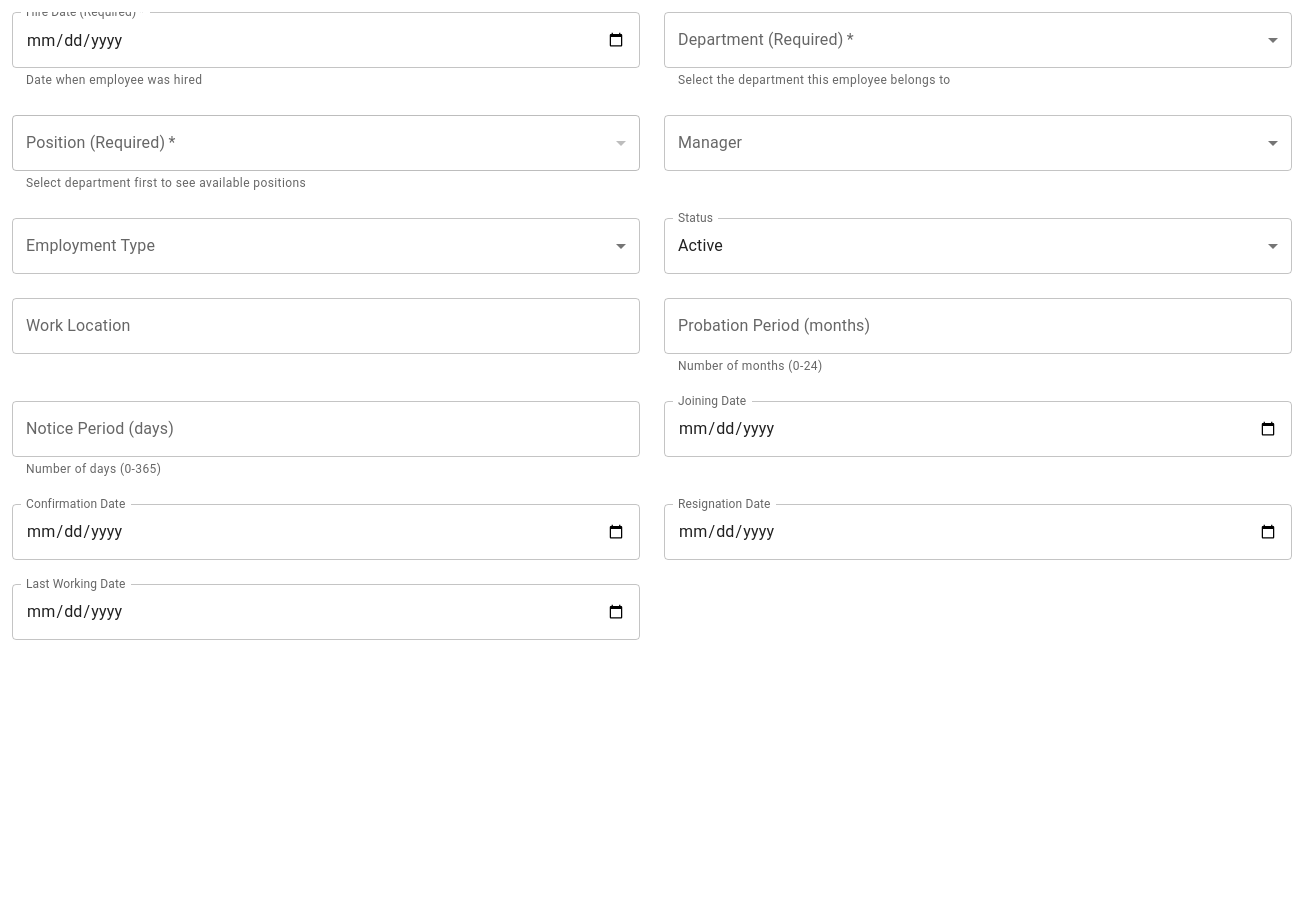
Test case: EmploymentInformationTab › Manager Select › should have None option plus manager list
Press the mouse on the dropdown with id "managerId" at (978, 143), box [664, 115, 1292, 171]
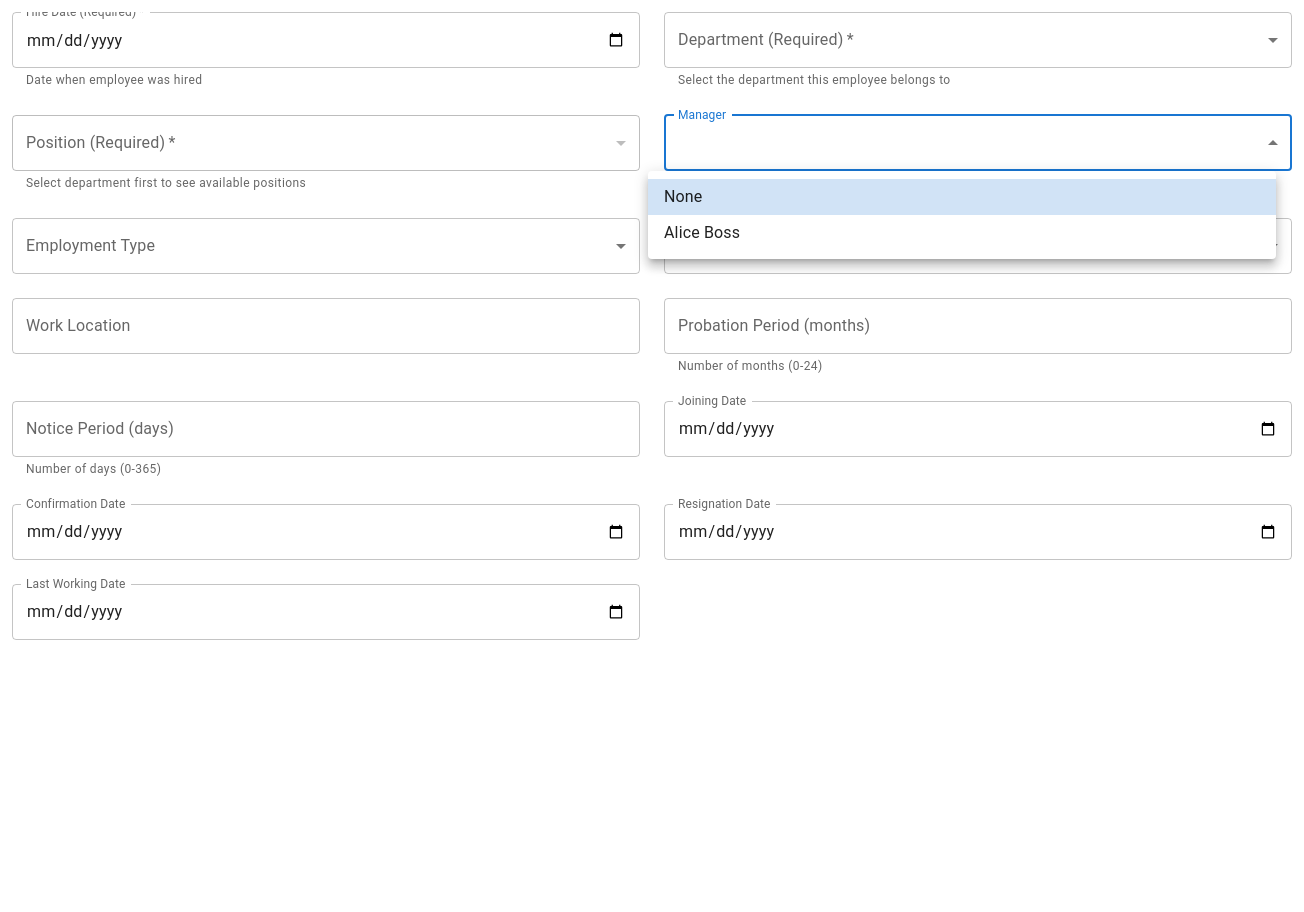
Now the option "None" is shown, box [648, 179, 1276, 215]
Now the option "Alice Boss" is shown, box [664, 223, 740, 242]
